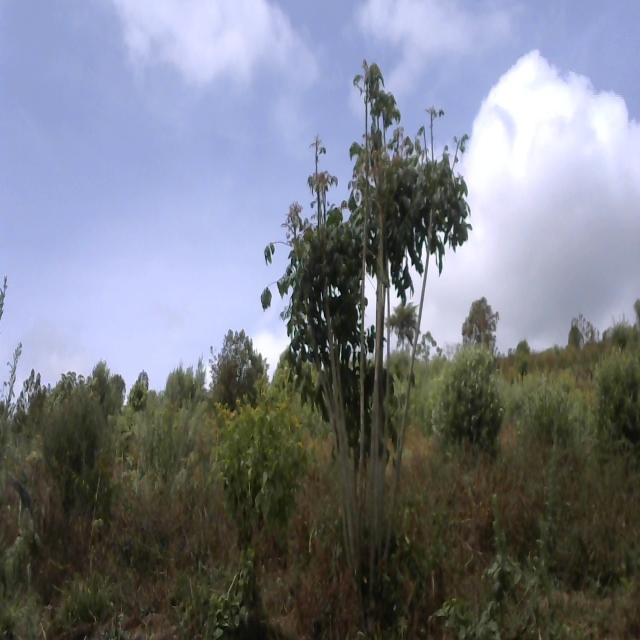Polyscias fulva: (257, 38, 481, 532)
Salix alba: (435, 327, 502, 461), (589, 338, 640, 444)
other: (213, 384, 313, 546), (32, 378, 116, 547), (208, 318, 266, 416)
